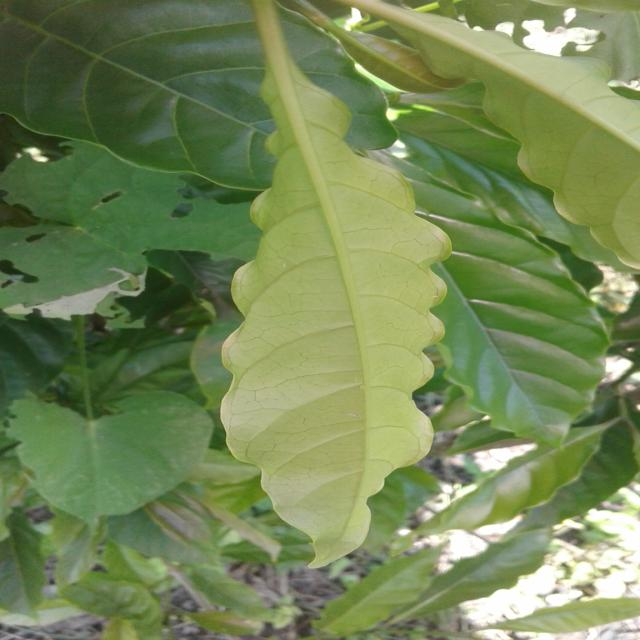Sanas: (221, 0, 454, 569)
